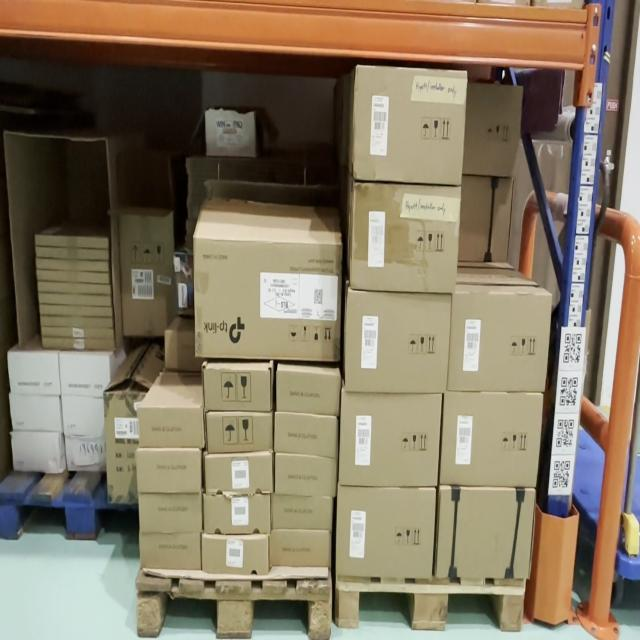box: (196, 241, 341, 359), (356, 67, 465, 182), (353, 186, 457, 288), (347, 292, 449, 389), (342, 394, 441, 483), (452, 296, 546, 389), (442, 391, 538, 482), (338, 490, 434, 580), (439, 488, 533, 576), (120, 214, 169, 338), (207, 411, 272, 452), (137, 450, 199, 492), (203, 494, 268, 534), (138, 403, 201, 444), (206, 370, 273, 408), (275, 411, 337, 452), (278, 368, 338, 410), (274, 456, 334, 498), (206, 454, 270, 493), (201, 537, 268, 572), (271, 533, 331, 568), (7, 352, 58, 392), (274, 498, 329, 532), (138, 500, 200, 530), (12, 435, 62, 472), (140, 537, 198, 567), (9, 399, 62, 431)
